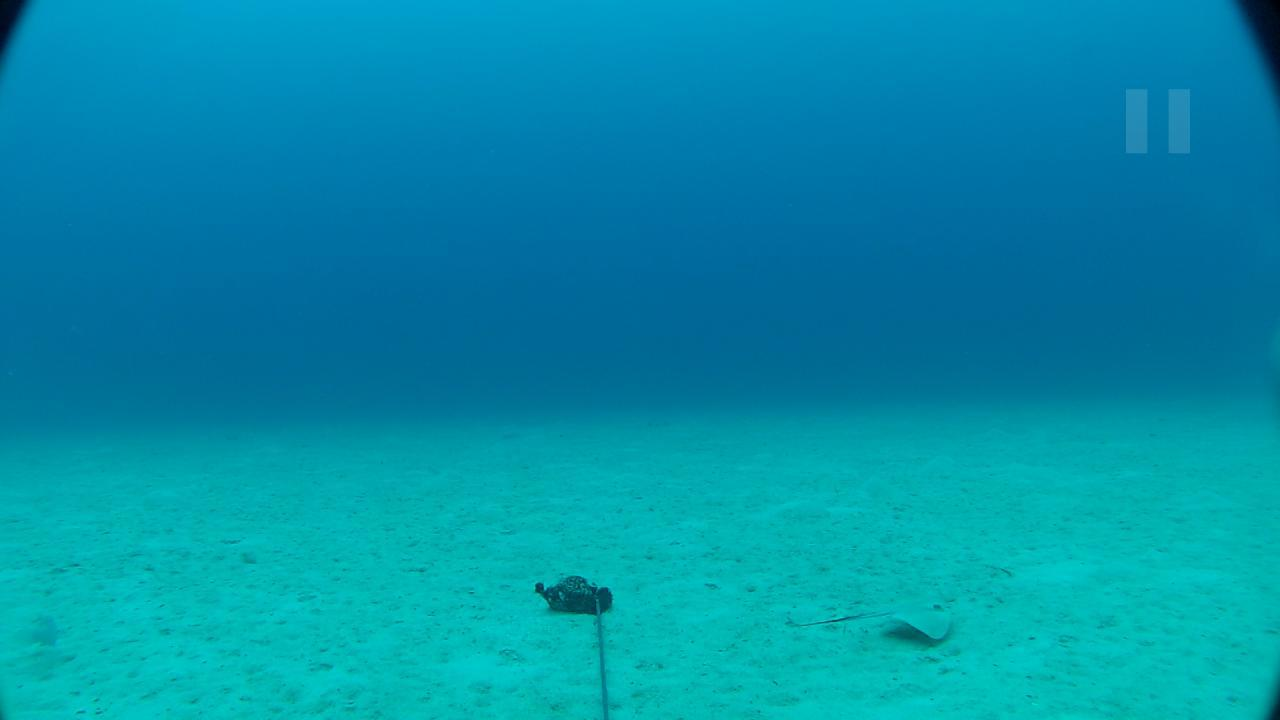dasyatis: (788, 594, 954, 642)
